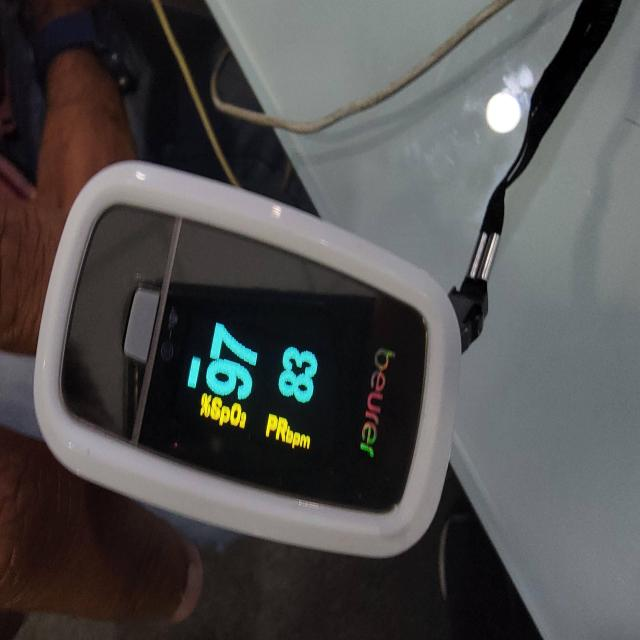spo2: (32, 160, 463, 562)
